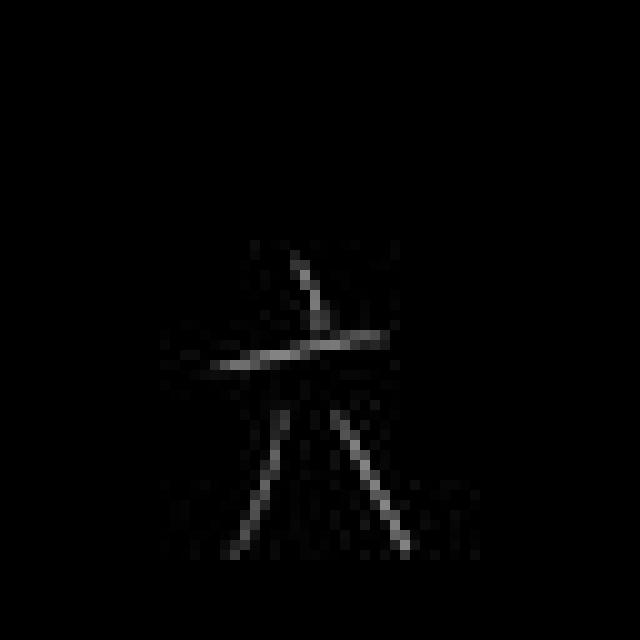6 -six-: (208, 251, 433, 576)
